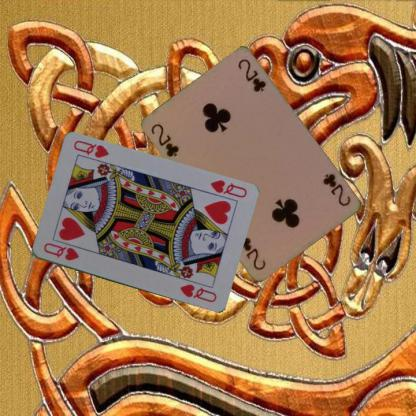2c: (148, 121, 181, 158), (320, 170, 352, 208)
Qh: (206, 178, 248, 200), (41, 240, 80, 262)
